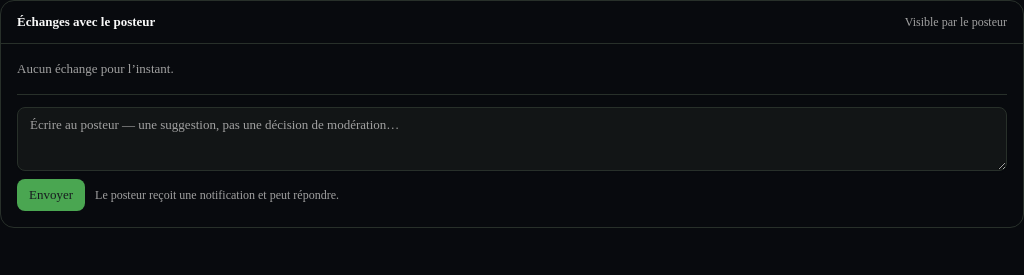
PostThread › refuses an empty message without reaching the action
This screenshot has width=1024, height=275.
Click the button "Envoyer": (51, 195) [17,179,85,211]
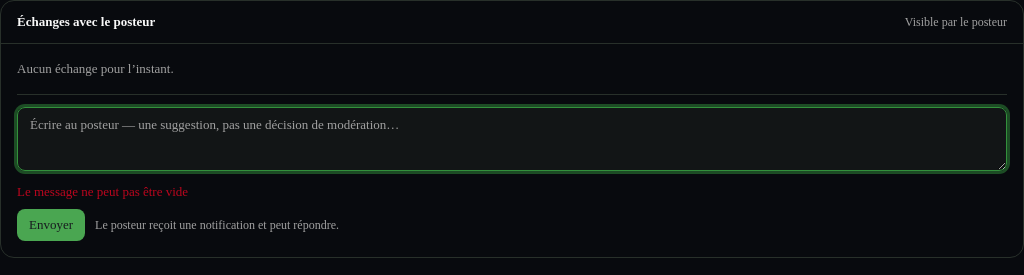
expect the text "Le message ne peut pas être vide" is shown: met, box [17,184,188,199]
